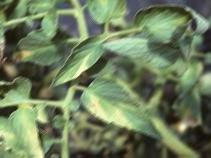Tomato mold leaf: (77, 79, 162, 143), (45, 37, 102, 94), (128, 7, 201, 45), (4, 28, 67, 68), (7, 110, 44, 157), (85, 0, 125, 29)
